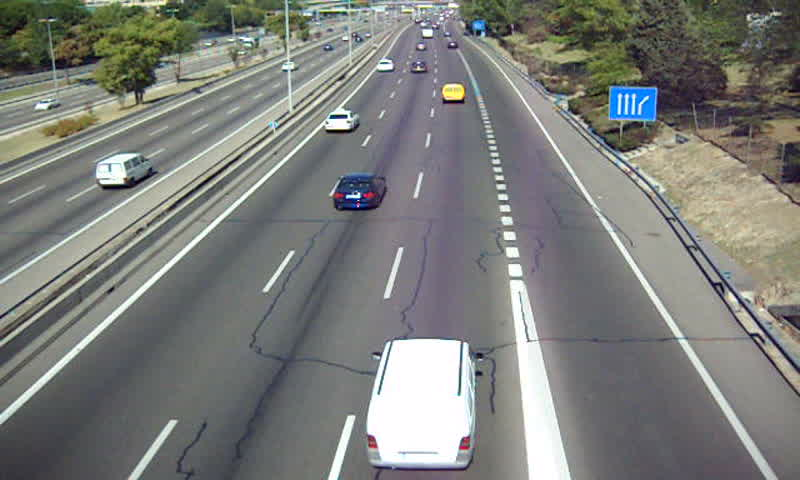car: (332, 172, 385, 211), (322, 110, 359, 133), (409, 59, 429, 75), (375, 59, 394, 73)
van: (366, 339, 476, 469), (441, 83, 465, 104)
